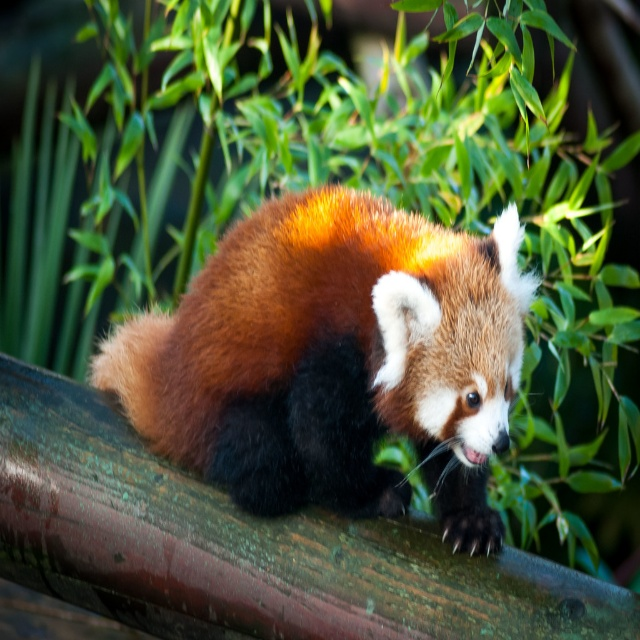Red panda: (89, 178, 545, 560)
